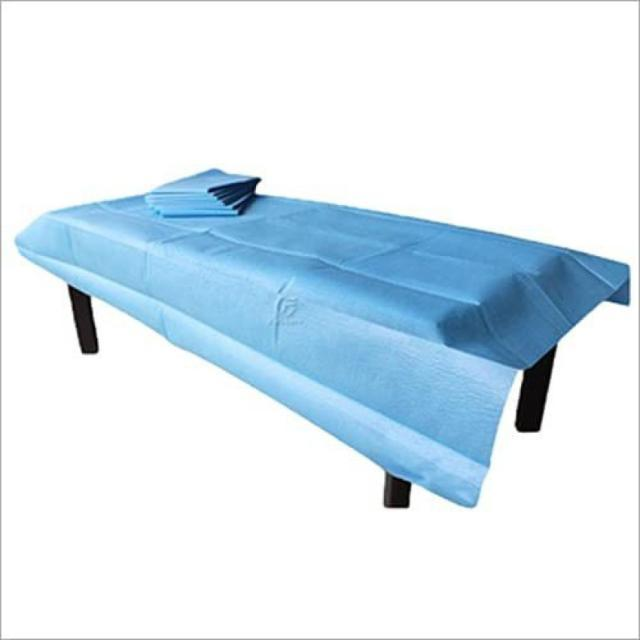bed: (14, 167, 630, 509)
